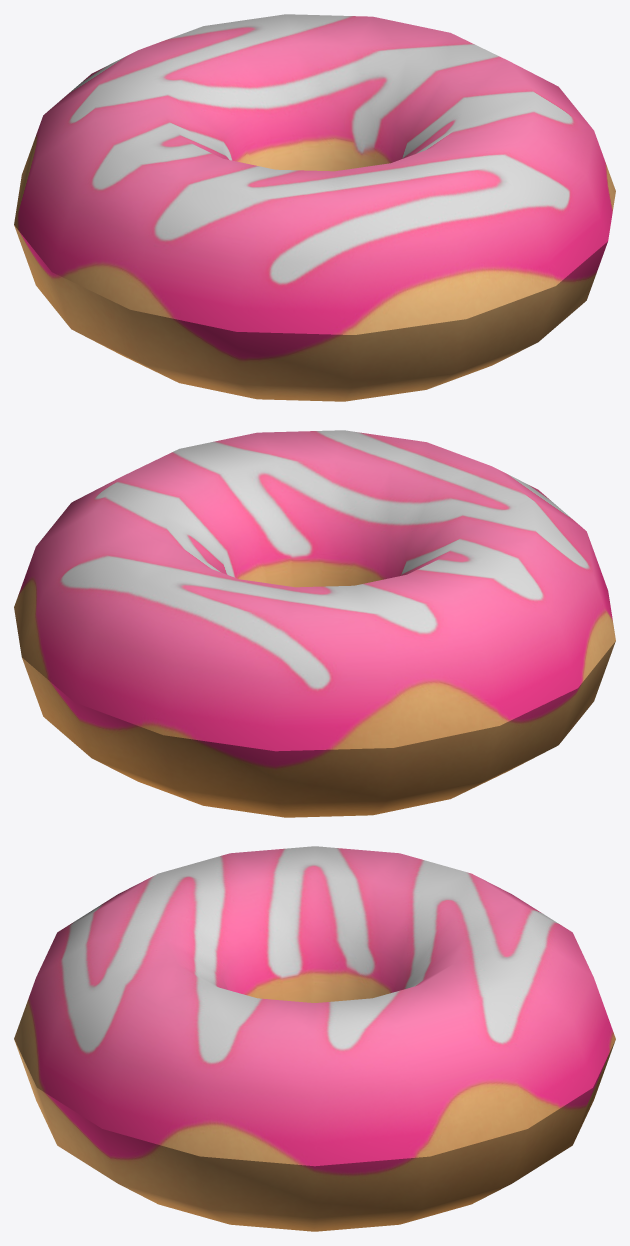
File: Donut_Pink.fbx
The picture shows the model from 3 angles, top to bottom: view 1: azimuth 30°, elevation 25°; view 2: azimuth 150°, elevation 25°; view 3: azimuth 270°, elevation 25°; orthographic projection.
Visible parts, largest first — view 1: Donut_1; view 2: Donut_1; view 3: Donut_1.
Boxes of the visible parts, x1,y1,x2,y2 form: Donut_1: (14, 14, 615, 401); Donut_1: (14, 430, 615, 817); Donut_1: (14, 846, 615, 1231).
Size of the model in its own units: 39.85 by 14.5 by 39.85.
1 material, 1 textured.
